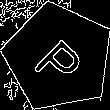P_NE: (27, 26, 90, 88)
